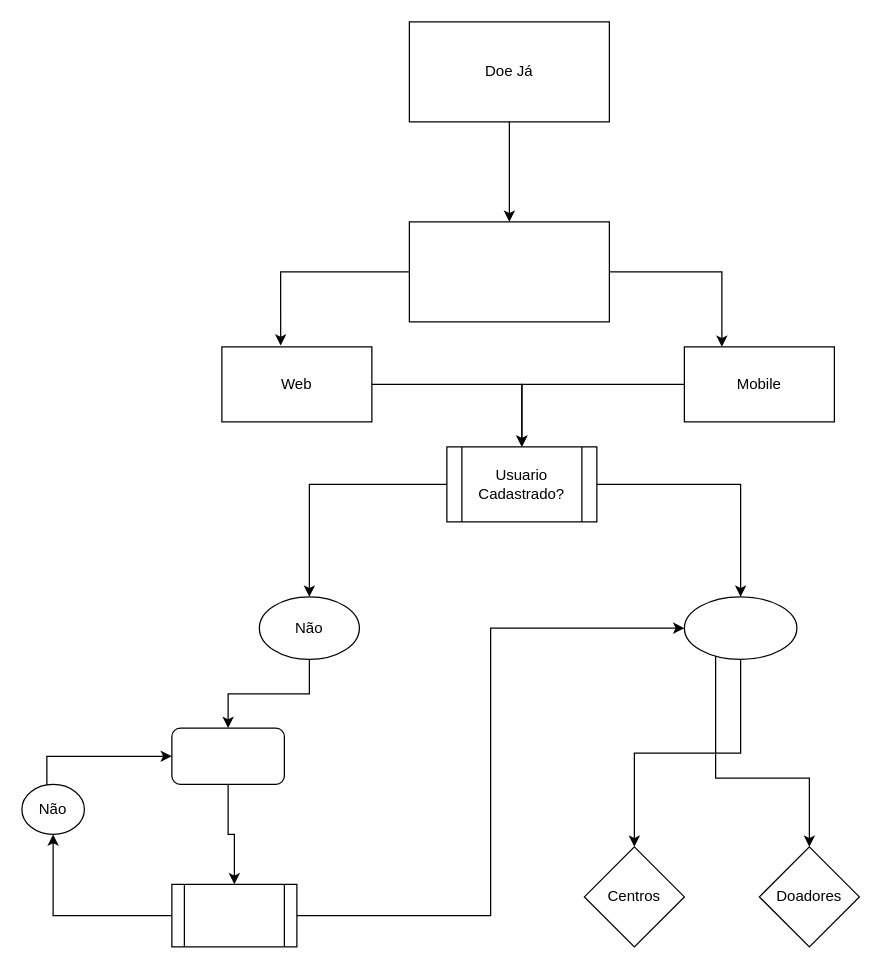
Some shapes in this 881 by 969 pixel diagram are drawn without their labels. Here are the shapes that lost their labels. From the top down, the centre of each, then its label:
pixel 508 271: Tela inicial - HOME
pixel 740 627: Sim
pixel 227 755: Cadastrar
pixel 234 915: Cadastro OK?
